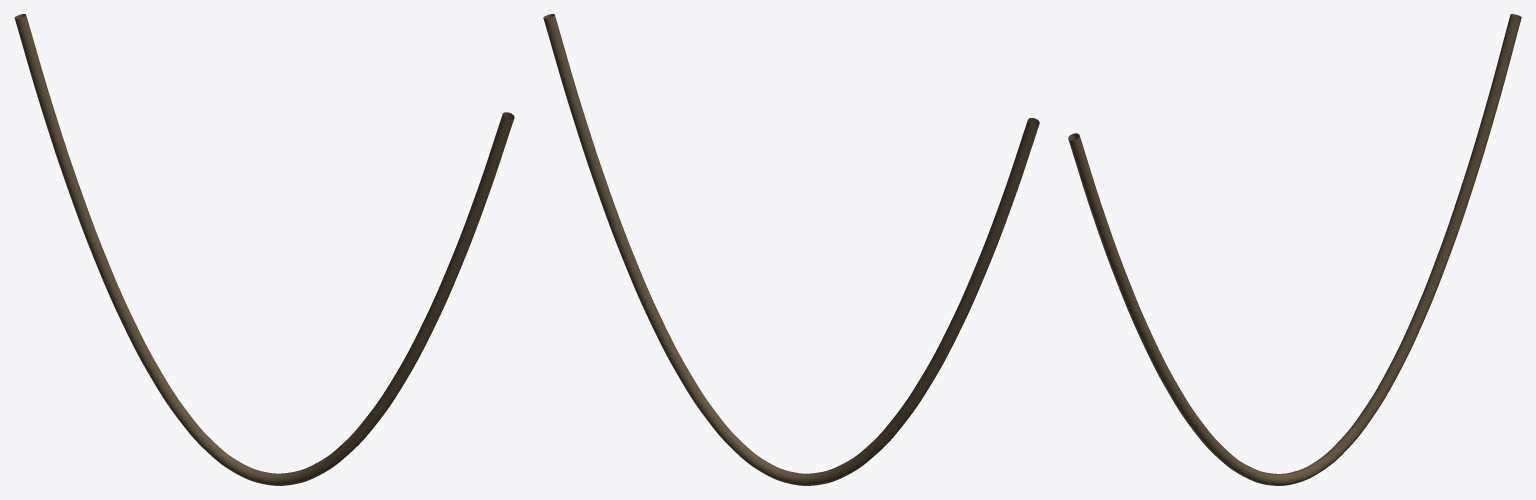
File: Catenary.041.fbx
The picture shows the model from 3 angles, left to right: view 1: azimuth 30°, elevation 25°; view 2: azimuth 210°, elevation 25°; view 3: azimuth 270°, elevation 25°; orthographic projection. The views are drawn at different scales.
Visible parts, largest first — view 1: Catenary.041; view 2: Catenary.041; view 3: Catenary.041.
Boxes of the visible parts, x1,y1,x2,y2 form: Catenary.041: (14,14,514,485); Catenary.041: (543,14,1039,485); Catenary.041: (1068,14,1521,485).
Size of the model in its own units: 39.73 by 58.78 by 59.
